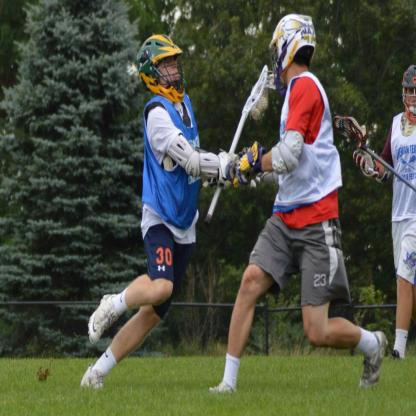Helmet: (266, 13, 316, 91), (138, 33, 186, 100), (403, 64, 416, 120)
